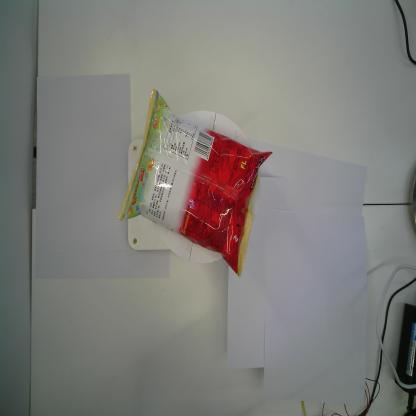Puffed Food: (118, 87, 274, 279)
